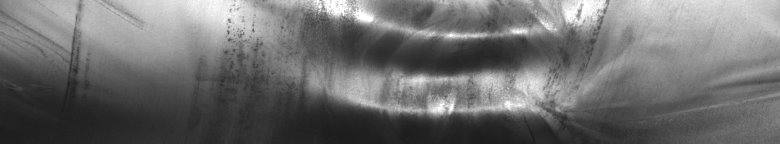ke: (316, 4, 606, 128)
